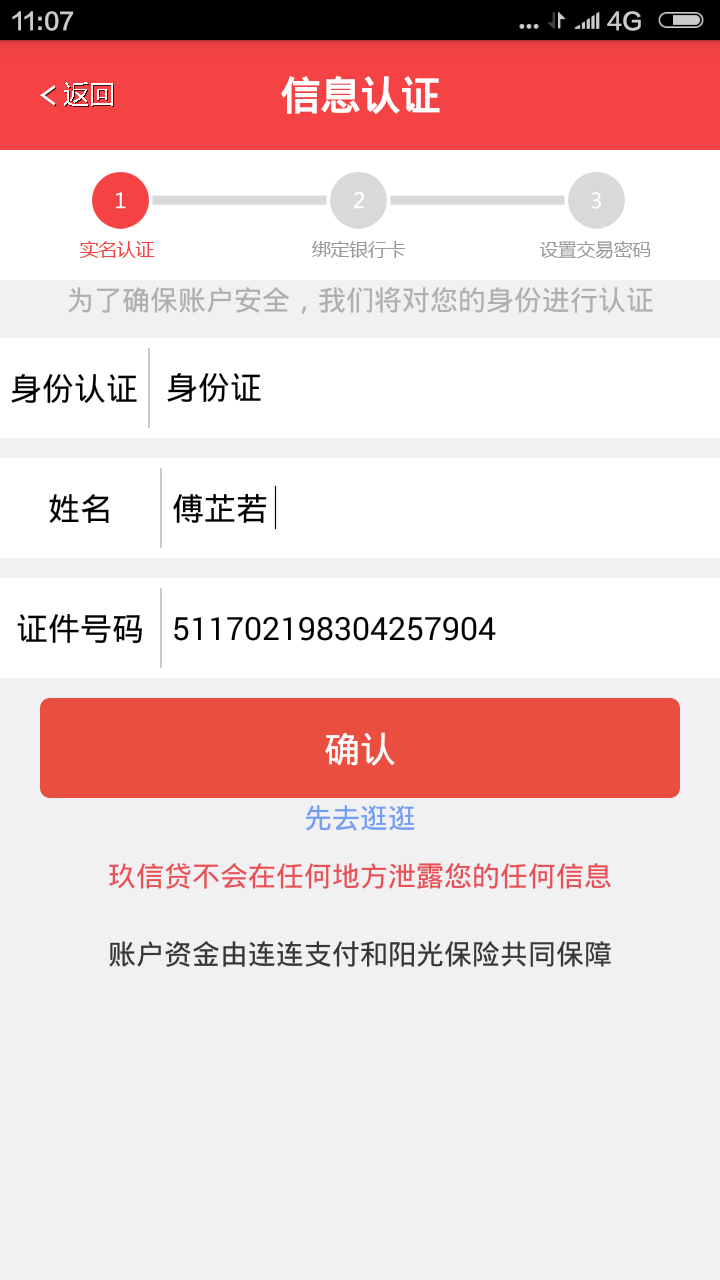button: (39, 688, 691, 802)
textview: (93, 849, 628, 980)
